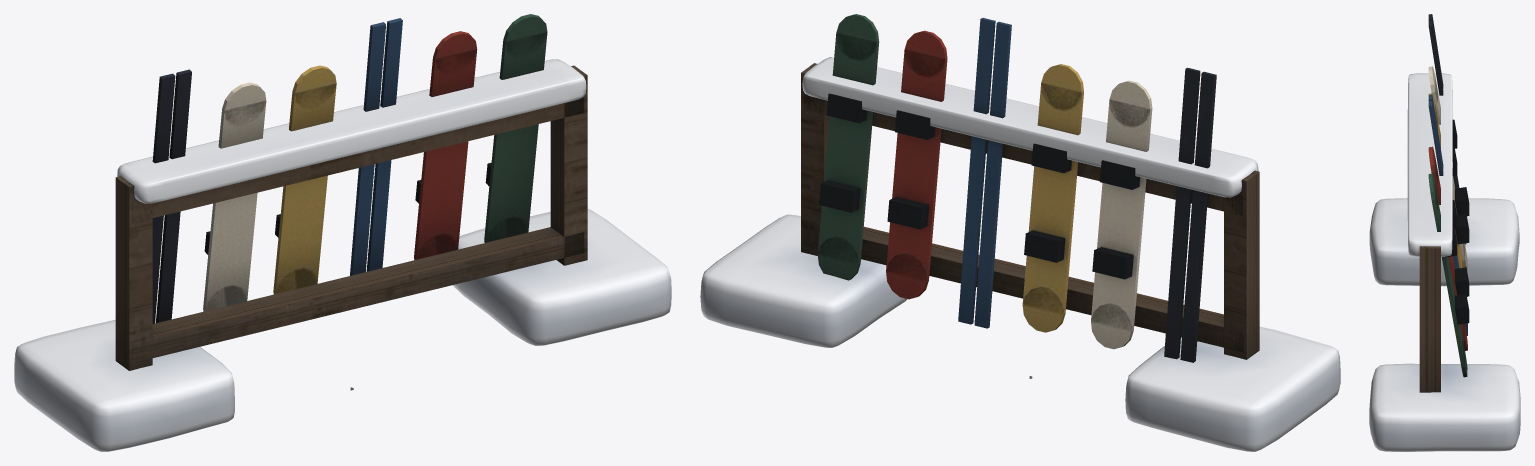
Rendered from board_rack.glb.
The picture shows the model from 3 angles, left to right: view 1: azimuth 30°, elevation 25°; view 2: azimuth 150°, elevation 25°; view 3: azimuth 270°, elevation 25°; orthographic projection. The views are drawn at different scales.
Parts seen in each view (by area): view 1: board_rack, board_rack_snow; view 2: board_rack, board_rack_snow; view 3: board_rack_snow, board_rack.
Boxes of the visible parts, left/top/right/bottom form: board_rack: left=115, top=14, right=587, bottom=390; board_rack_snow: left=14, top=59, right=671, bottom=451; board_rack: left=801, top=14, right=1259, bottom=378; board_rack_snow: left=700, top=57, right=1340, bottom=451; board_rack_snow: left=1369, top=73, right=1520, bottom=451; board_rack: left=1419, top=14, right=1469, bottom=392.
Size of the model in its own units: 3.49 by 2.05 by 1.
Materials: 2 (1 with a texture image).
